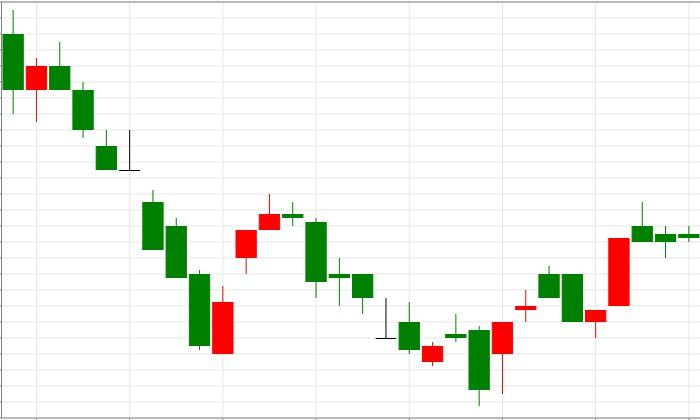evening_star_fall: (212, 194, 327, 354)
three_white_soldiers_rise: (49, 41, 281, 354)
